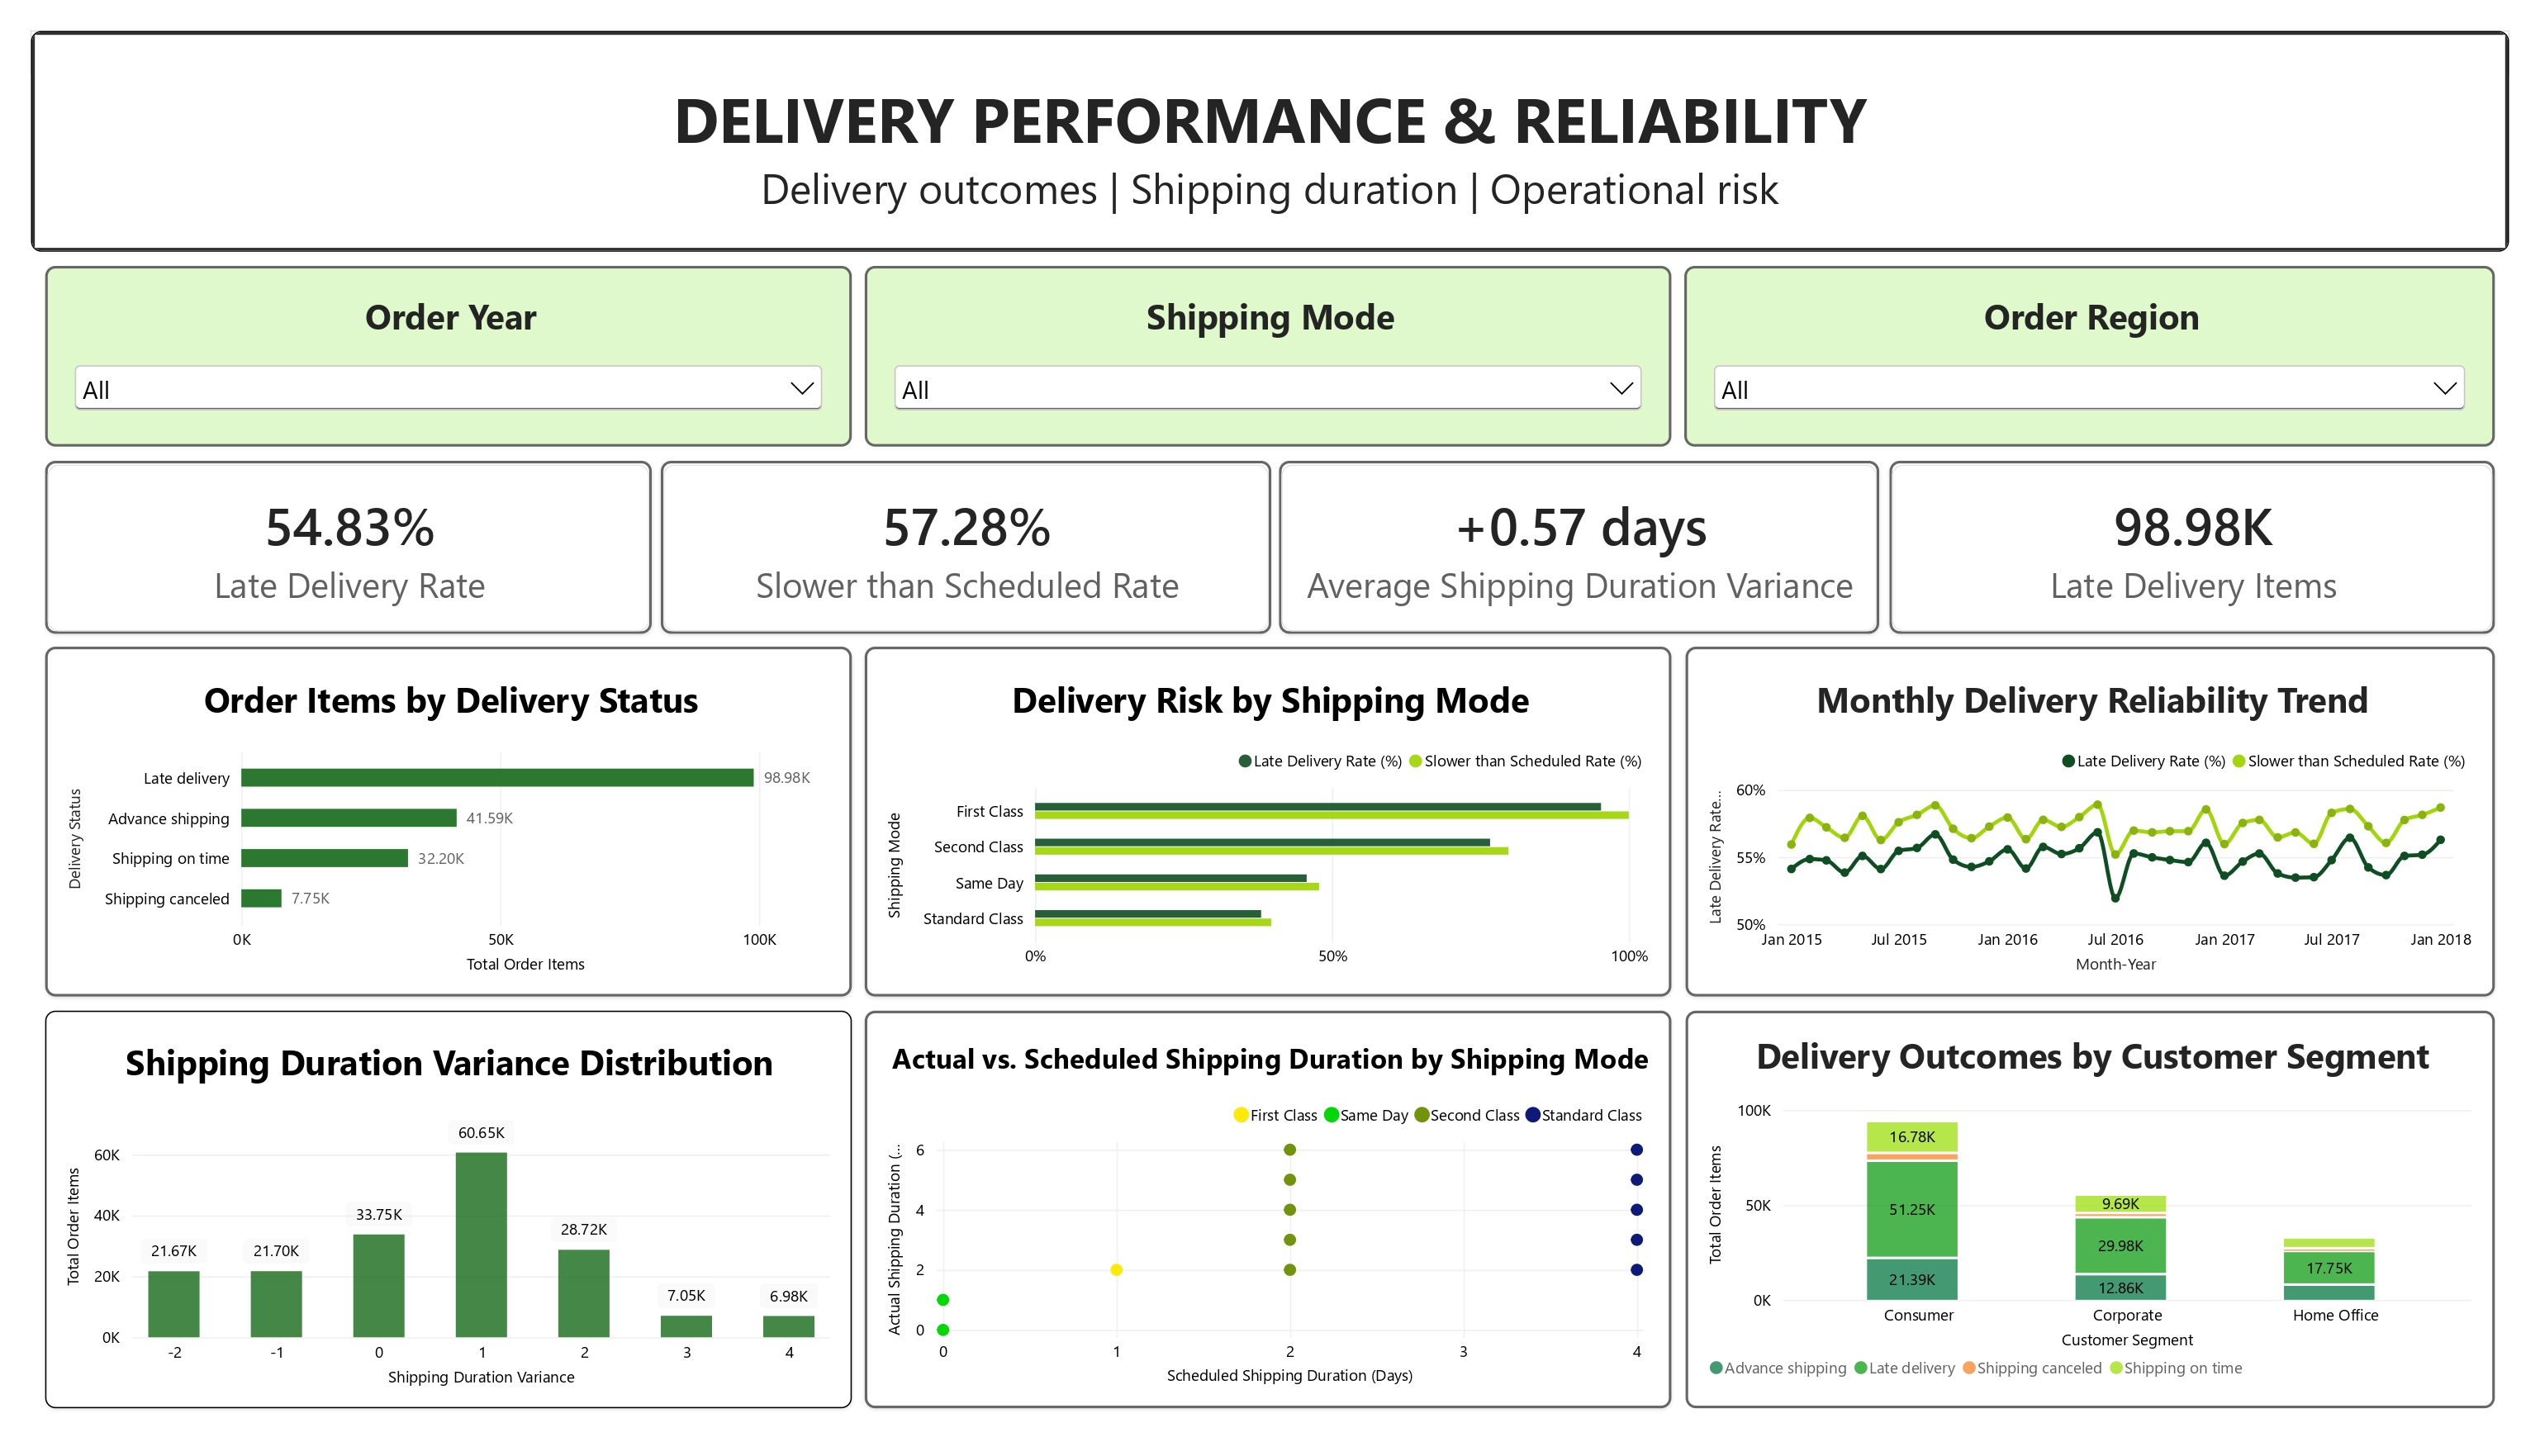

What the dashboard file says about the page in this screenshot:
{"tool":"powerbi","page":{"name":"Delivery Performance ","canvas":[1920,1080],"ordinal":1},"visuals":[{"type":"shape","box":[0,0,1920,171.2],"z":0},{"type":"textbox","box":[18.8,34.9,1882.5,112.6],"z":1000},{"type":"slicer","title":"Order Year ","fields":{"Values":["cleaned_SupplyChainDataset.Order Year"]},"box":[10.7,182.3,624.8,139.4],"z":2000},{"type":"slicer","title":"Order Region ","fields":{"Values":["cleaned_SupplyChainDataset.Market"]},"box":[1281,182,628,140],"z":3000},{"type":"slicer","title":"Shipping Mode ","fields":{"Values":["cleaned_SupplyChainDataset.Shipping Mode"]},"box":[646.3,182.3,624.8,139.4],"z":4000},{"type":"cardVisual","fields":{"Data":["_Measures.Late Delivery Rate (%)"]},"box":[10.7,332.5,470,134.1],"z":5000},{"type":"cardVisual","fields":{"Data":["_Measures.Late Delivery Items"]},"box":[1440,332.5,469.3,134.1],"z":6000},{"type":"cardVisual","fields":{"Data":["_Measures.Average Shipping Variance Display"]},"box":[967,332.5,465,134.1],"z":7000},{"type":"cardVisual","fields":{"Data":["_Measures.Slower than Scheduled Rate (%)"]},"box":[488,332.5,473,134.1],"z":8000},{"type":"clusteredBarChart","title":"Order Items by Delivery Status ","fields":{"Category":["cleaned_SupplyChainDataset.Delivery Status"],"Y":["_Measures.Total Order Items"]},"box":[10.7,477.3,624.8,270.8],"z":9000},{"type":"clusteredBarChart","title":"Delivery Risk by Shipping Mode ","fields":{"Category":["cleaned_SupplyChainDataset.Shipping Mode"],"Y":["_Measures.Late Delivery Rate (%)","_Measures.Slower than Scheduled Rate (%)"]},"box":[646.3,477.3,625,271],"z":10000},{"type":"lineChart","title":"Monthly Delivery Reliability Trend ","fields":{"Category":["cleaned_SupplyChainDataset.Order Date Only.Variation.Date Hierarchy.Year","cleaned_SupplyChainDataset.Order Date Only.Variation.Date Hierarchy.Month"],"Y":["_Measures.Late Delivery Rate (%)","_Measures.Slower than Scheduled Rate (%)"]},"box":[1281.8,477.3,627,270.8],"z":11000},{"type":"columnChart","title":"Shipping Duration Variance Distribution ","fields":{"Category":["cleaned_SupplyChainDataset.Shipping Duration Variance"],"Y":["_Measures.Total Order Items"]},"box":[10.7,758.9,624.8,308],"z":12000},{"type":"scatterChart","title":"Actual vs. Scheduled Shipping Duration by Shipping Mode ","fields":{"Series":["cleaned_SupplyChainDataset.Shipping Mode"],"X":["cleaned_SupplyChainDataset.Days for shipment (scheduled)"],"Y":["cleaned_SupplyChainDataset.Days for shipping (real)"]},"box":[646,759,625,308],"z":13000},{"type":"columnChart","title":"Delivery Outcomes by Customer Segment ","fields":{"Category":["cleaned_SupplyChainDataset.Customer Segment"],"Series":["cleaned_SupplyChainDataset.Delivery Status"],"Y":["_Measures.Total Order Items"]},"box":[1282,759,627,308],"z":14000}]}

Visuals, with their boxes on the page's 1920x1080 design canvas (x1, y1, x2, y2). These are canvas units, not pixel positions in the 2540x1456 screenshot, which may show the page scaled, cropped or inside an application window:
shape: region(0, 0, 1920, 171)
textbox: region(19, 35, 1901, 148)
"Order Year " slicer: region(11, 182, 636, 322)
"Order Region " slicer: region(1281, 182, 1909, 322)
"Shipping Mode " slicer: region(646, 182, 1271, 322)
cardVisual - _Measures.Late Delivery Rate (%): region(11, 332, 481, 467)
cardVisual - _Measures.Late Delivery Items: region(1440, 332, 1909, 467)
cardVisual - _Measures.Average Shipping Variance Display: region(967, 332, 1432, 467)
cardVisual - _Measures.Slower than Scheduled Rate (%): region(488, 332, 961, 467)
"Order Items by Delivery Status " clusteredBarChart: region(11, 477, 636, 748)
"Delivery Risk by Shipping Mode " clusteredBarChart: region(646, 477, 1271, 748)
"Monthly Delivery Reliability Trend " lineChart: region(1282, 477, 1909, 748)
"Shipping Duration Variance Distribution " columnChart: region(11, 759, 636, 1067)
"Actual vs. Scheduled Shipping Duration by Shipping Mode " scatterChart: region(646, 759, 1271, 1067)
"Delivery Outcomes by Customer Segment " columnChart: region(1282, 759, 1909, 1067)
